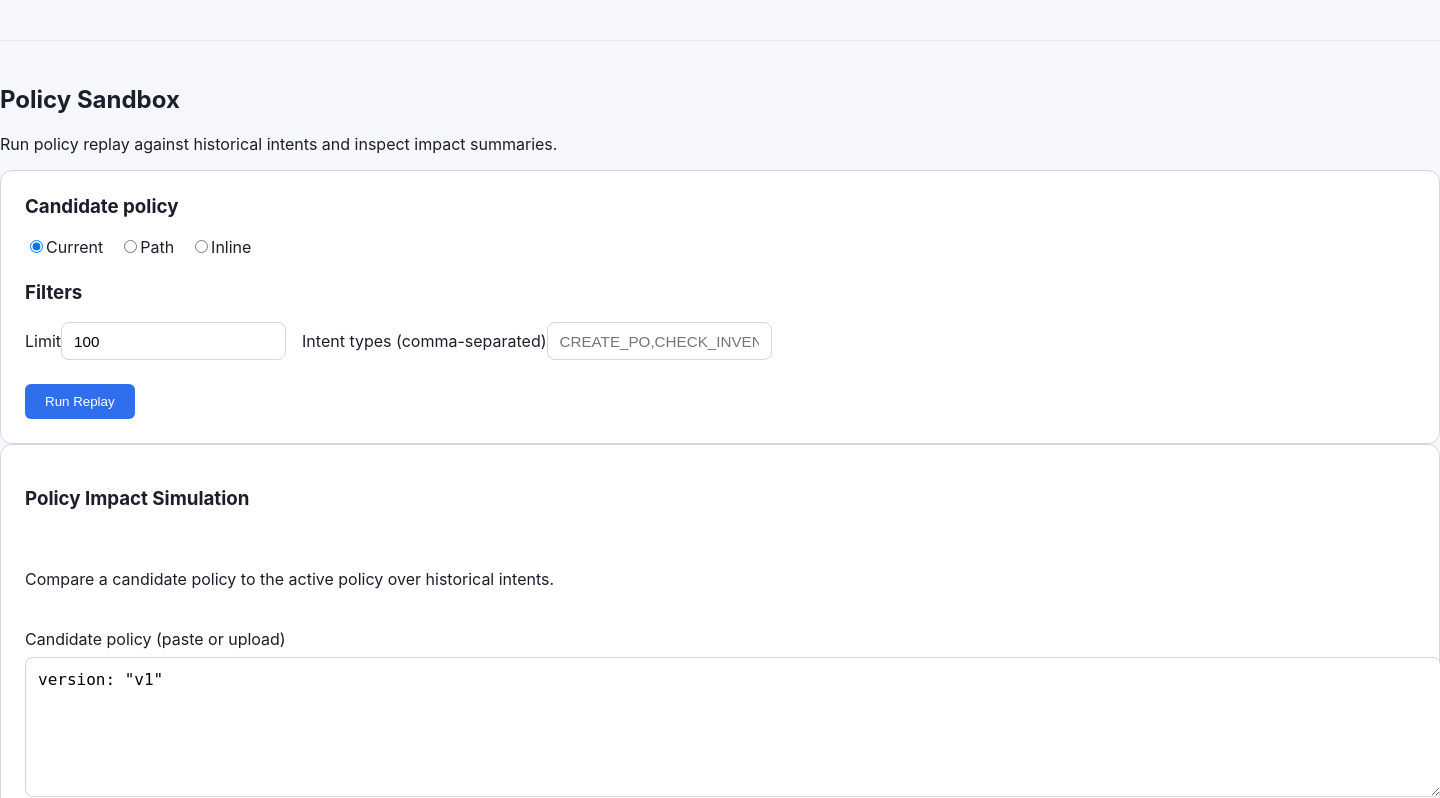
Test case: promotion button enables after approval details when impact is within thresholds
The width and height of the screenshot is (1440, 798).
Click the button "Run Replay".
click(80, 402)  # box [25,384,135,419]
(page scrolled)
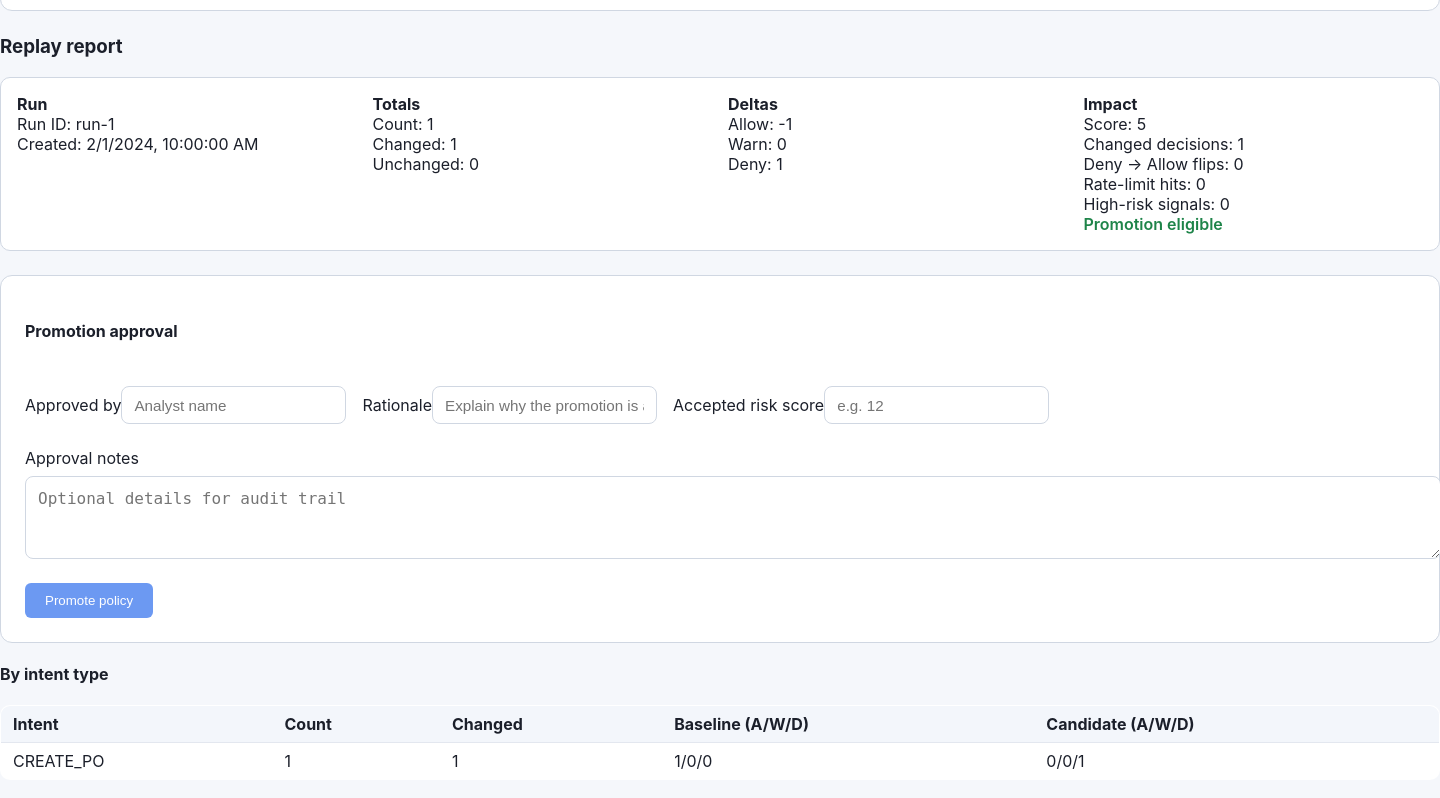
Expected: the heading "Replay report" is shown, [0,35,123,58]
Type "Reviewer" into the field labelled "Approved by".
click(234, 405); type("Reviewer")  # box [122,386,346,424]
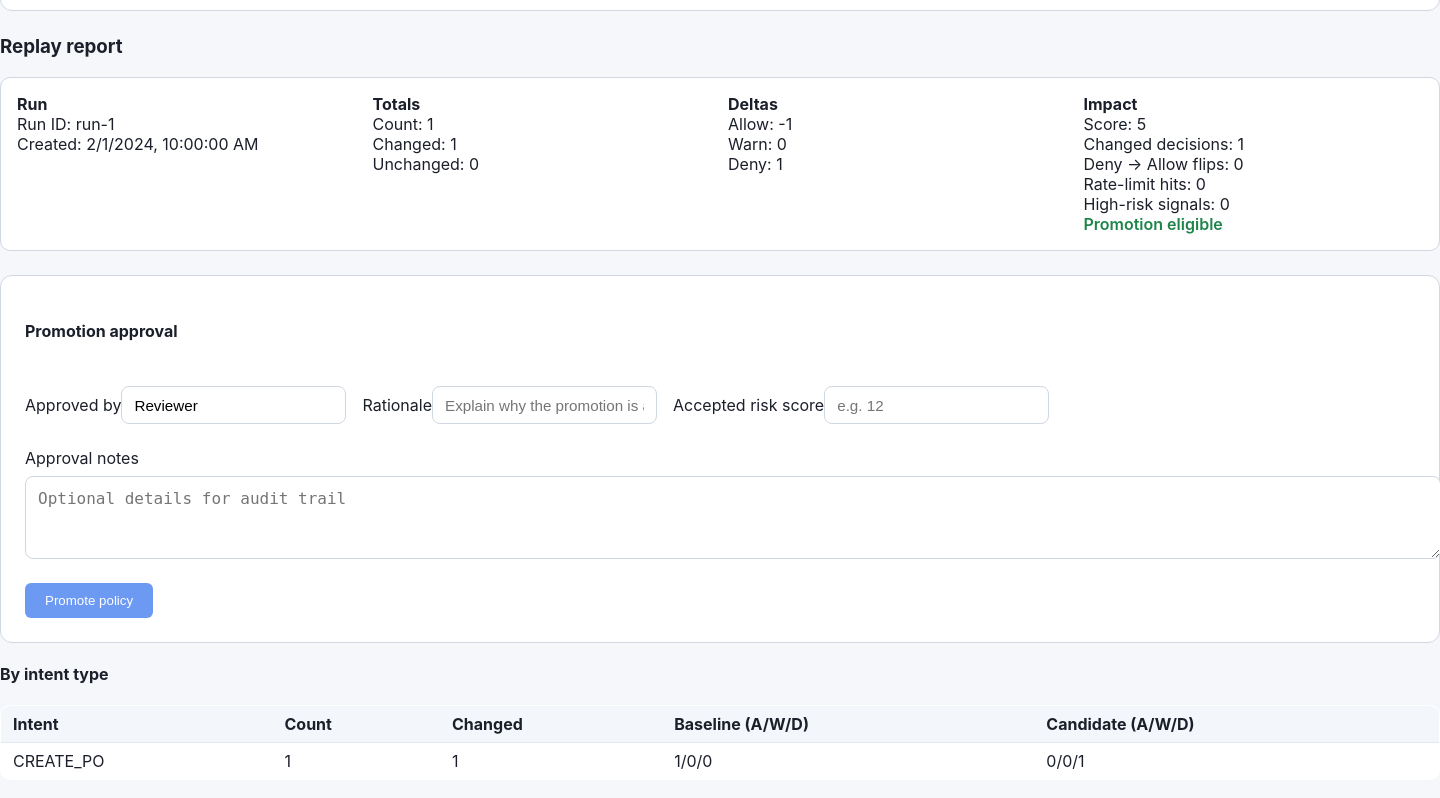
Type "Regression results match baseline." into the field with placeholder "Explain why the promotion is acceptable".
click(544, 405); type("Regression results match baseline.")  # box [432,386,657,424]
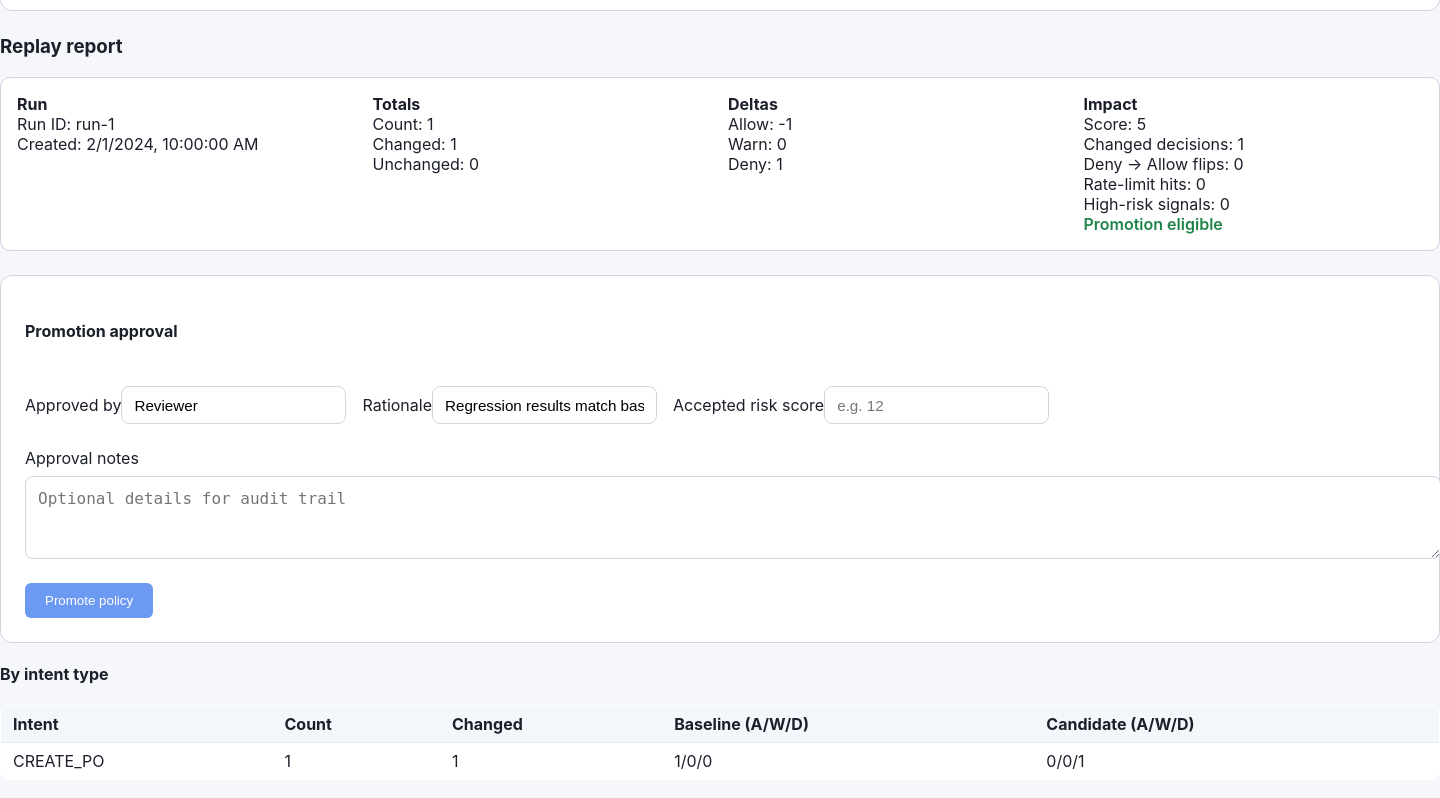
Type "12" into the number field labelled "Accepted risk score".
click(937, 405); type("12")  # box [824,386,1049,424]
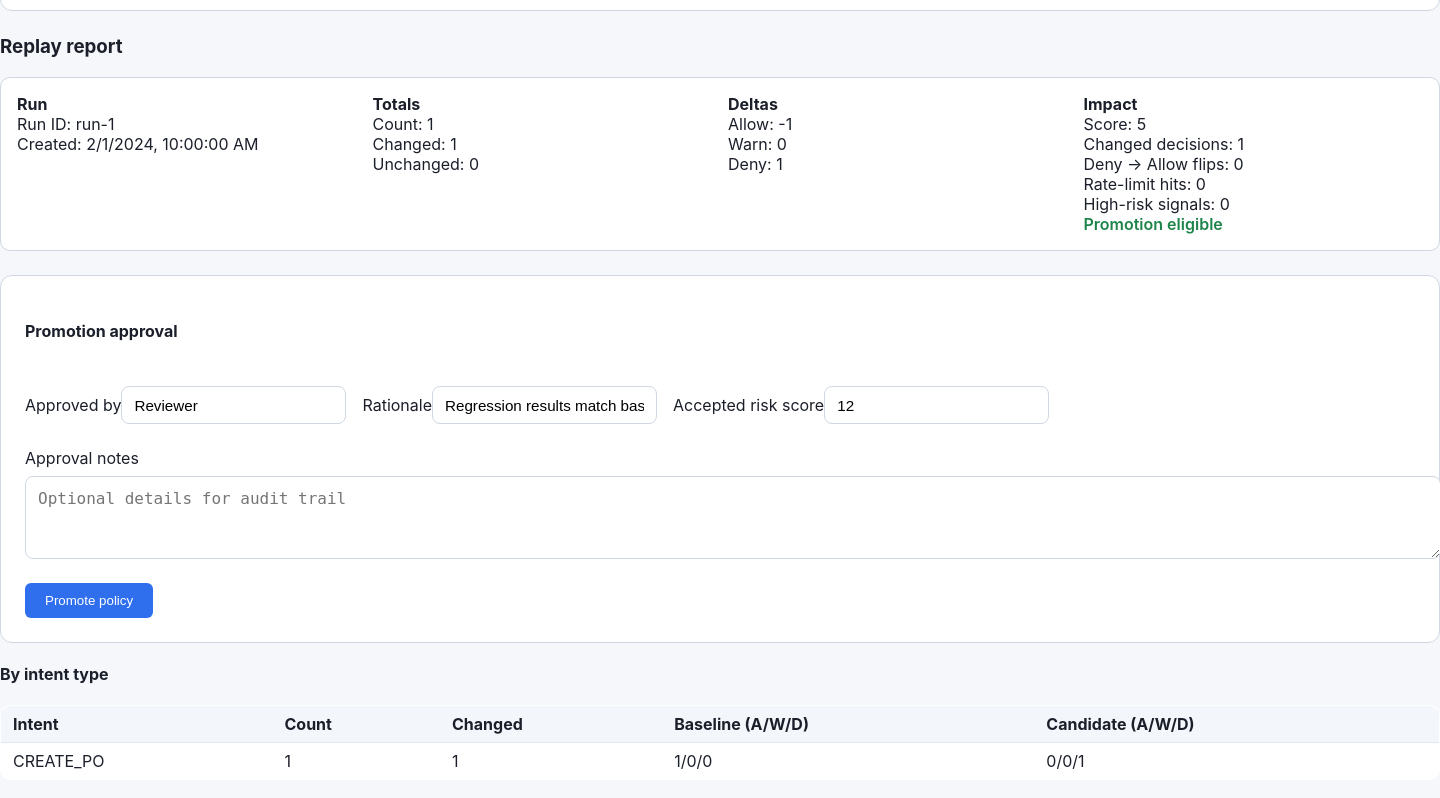
Expected: the button "Promote policy" is enabled, [25,583,153,618]
